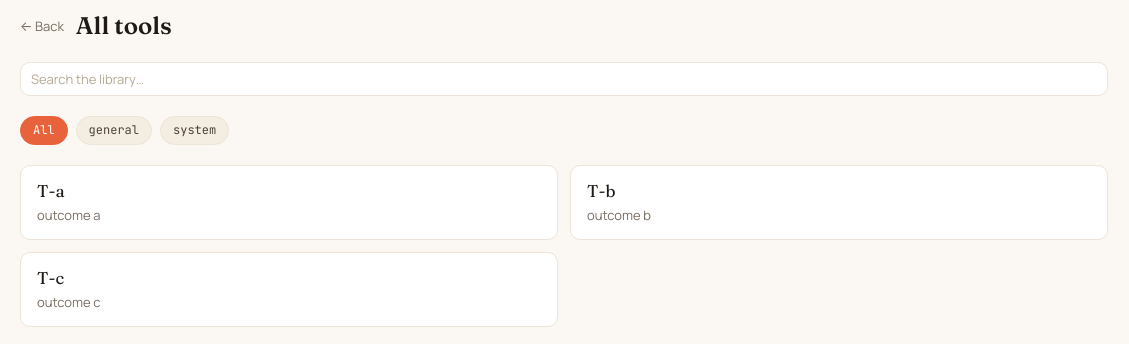
Scenario: LibraryAllPage › filters by search query against name and outcome
The width and height of the screenshot is (1129, 344).
Type "outcome a" into the field with placeholder "Search the library…".
click(564, 79); type("outcome a")  # box top-left (20, 62), bottom-right (1108, 96)
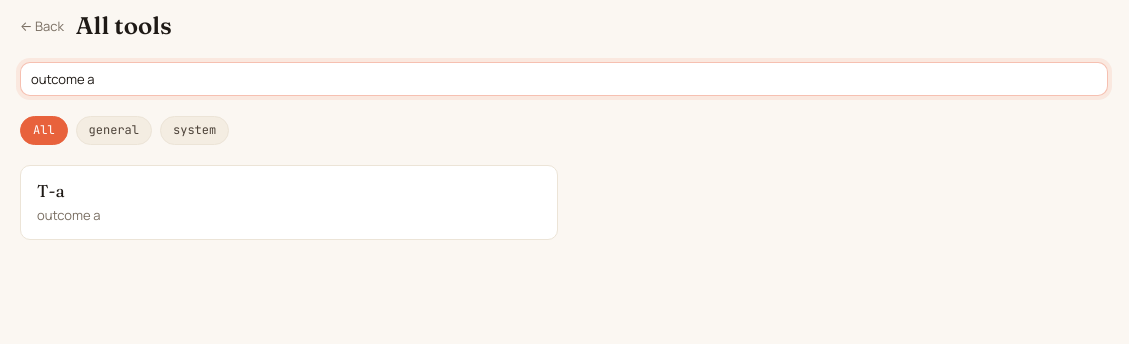
Check: the text "T-a" is shown, box top-left (37, 180), bottom-right (65, 201)
Check: the button "T-b" is gone
